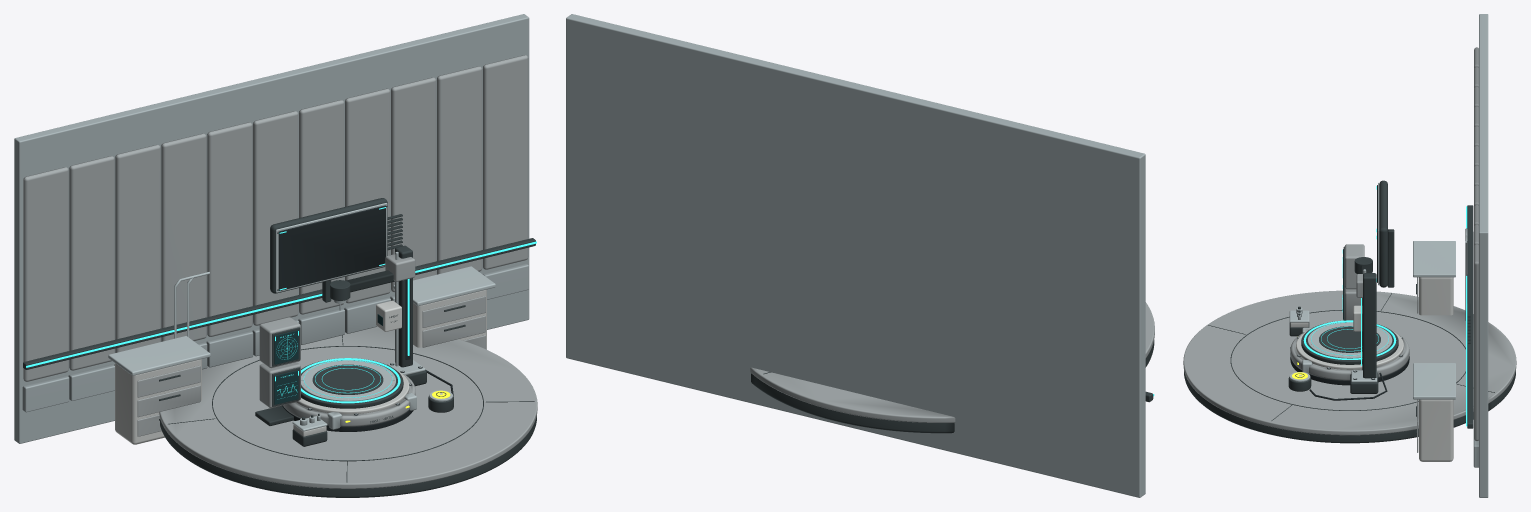
File: test_lab.glb
The picture shows the model from 3 angles, left to right: view 1: azimuth 30°, elevation 25°; view 2: azimuth 150°, elevation 25°; view 3: azimuth 270°, elevation 25°; orthographic projection. The views are drawn at different scales.
Parts seen in each view (by area): view 1: Ceramic_silver, Cool_wall_panels, Graphite_chassis, Machined_aluminium, Recesses_and_seals, Pearl_enamel, Cyan_instrument_light, Instrument_glass, Screen_markings; view 2: Cool_wall_panels, Ceramic_silver, Graphite_chassis; view 3: Ceramic_silver, Graphite_chassis, Machined_aluminium, Cool_wall_panels, Pearl_enamel, Recesses_and_seals, Cyan_instrument_light.
Part boxes in pixels (x1,y1,x2,y2): Ceramic_silver: [23, 55, 537, 488]; Cool_wall_panels: [14, 14, 529, 443]; Graphite_chassis: [23, 198, 536, 497]; Machined_aluminium: [108, 202, 495, 431]; Recesses_and_seals: [278, 205, 453, 431]; Pearl_enamel: [115, 289, 486, 444]; Cyan_instrument_light: [26, 207, 536, 403]; Instrument_glass: [274, 314, 382, 404]; Screen_markings: [276, 337, 392, 399]; Cool_wall_panels: [566, 14, 1145, 497]; Ceramic_silver: [750, 302, 1154, 422]; Graphite_chassis: [751, 340, 1154, 433]; Ceramic_silver: [1183, 47, 1516, 452]; Graphite_chassis: [1184, 180, 1515, 443]; Machined_aluminium: [1289, 183, 1467, 399]; Cool_wall_panels: [1473, 14, 1488, 497]; Pearl_enamel: [1290, 277, 1453, 461]; Recesses_and_seals: [1290, 185, 1409, 400]; Cyan_instrument_light: [1303, 186, 1467, 426].
Bounding box in the file's own units: 12 × 6.8 × 7.72.
